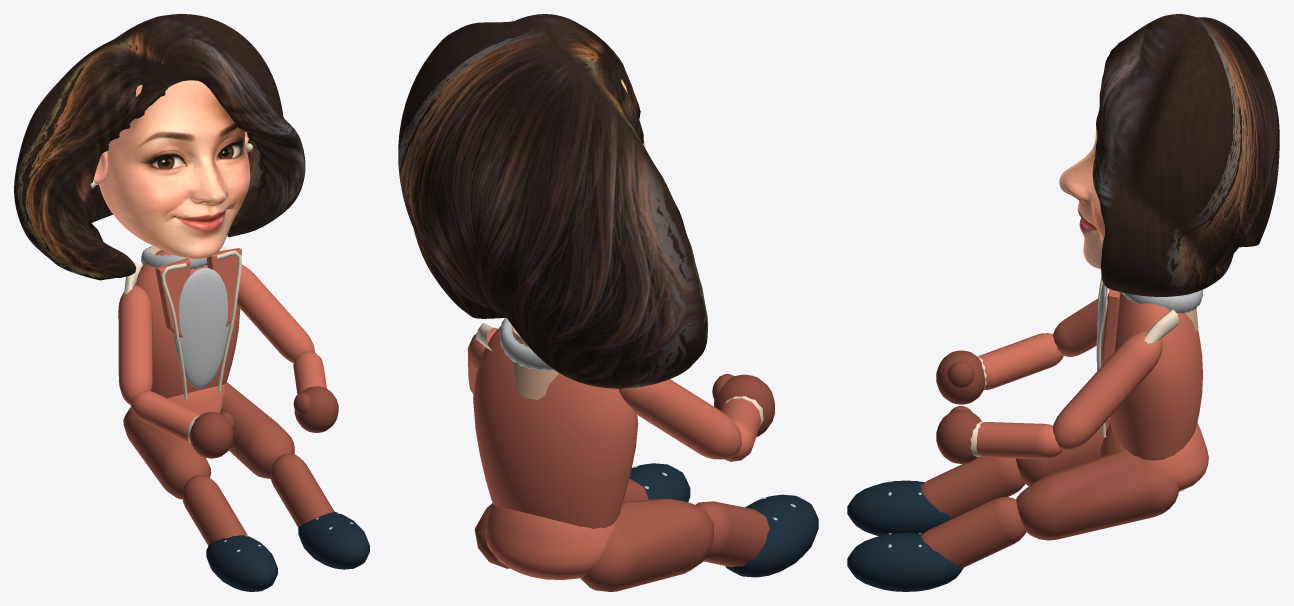
File: mother.glb
3 renders of one model, left to right at view 1: azimuth 30°, elevation 25°; view 2: azimuth 150°, elevation 25°; view 3: azimuth 270°, elevation 25°, orthographic. The views are drawn at different scales.
Parts seen in each view (by area): view 1: PortraitHair_mother, Driver_mother, PortraitVolumeFace, UpperArm_L, UpperArm_R, Forearm_L, Hand_L, Hand_R, Forearm_R, Crewneck_mother; view 2: PortraitHair_mother, Driver_mother, UpperArm_L, Hand_L, Forearm_L, Crewneck_mother, UpperArm_R; view 3: PortraitHair_mother, Driver_mother, UpperArm_R, Forearm_R, Forearm_L, PortraitVolumeFace, Hand_L, Hand_R, UpperArm_L, Crewneck_mother.
Boxes of the visible parts, x1,y1,x2,y2 form: PortraitHair_mother: (14,14,305,280); Driver_mother: (123,246,369,591); PortraitVolumeFace: (99,80,250,259); UpperArm_L: (118,285,152,404); UpperArm_R: (237,265,314,363); Forearm_L: (130,390,200,442); Hand_L: (190,411,235,458); Hand_R: (293,386,338,432); Forearm_R: (293,351,326,394); Crewneck_mother: (141,246,207,269); PortraitHair_mother: (398,14,707,388); Driver_mother: (473,323,818,591); UpperArm_L: (618,379,741,459); Hand_L: (712,374,774,437); Forearm_L: (721,396,763,461); Crewneck_mother: (499,318,553,370); UpperArm_R: (467,327,497,393); PortraitHair_mother: (1092,14,1279,296); Driver_mother: (847,276,1208,591); UpperArm_R: (1053,330,1162,450); Forearm_R: (970,421,1062,459); Forearm_L: (977,333,1063,389); PortraitVolumeFace: (1059,126,1104,268); Hand_L: (936,350,984,404); Hand_R: (936,406,982,463); UpperArm_L: (1053,292,1121,356); Crewneck_mother: (1121,290,1203,313).
Bounding box in the file's own units: 1.52 × 2.82 × 2.03.
12 materials, 2 textured.
